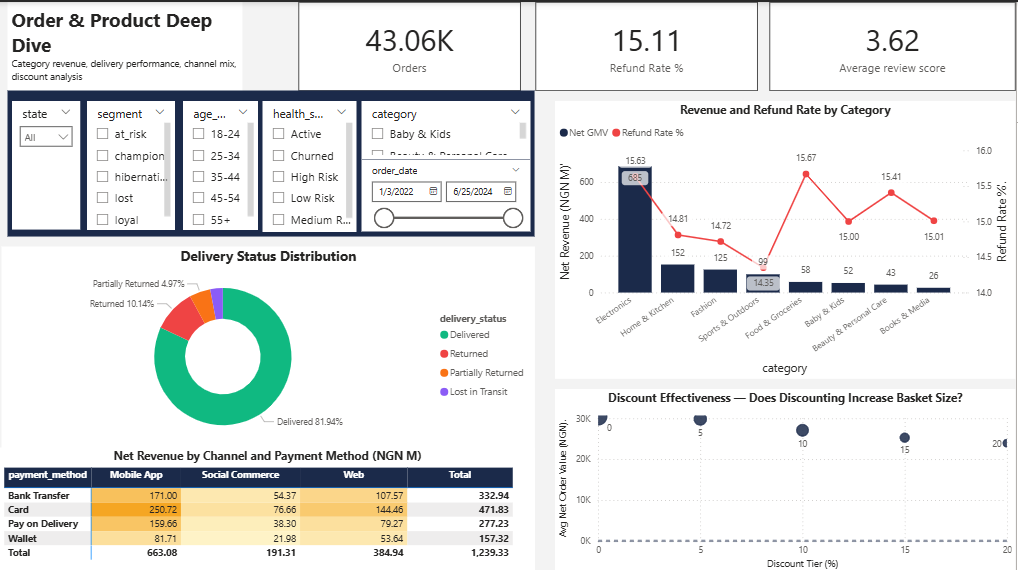

The page's visual inventory and layout, read from the dashboard file:
{"tool":"powerbi","page":{"name":"Order & Product Deep Dive","canvas":[1280,720],"ordinal":3},"visuals":[{"type":"textbox","box":[10,0,296,124],"z":0},{"type":"card","fields":{"Values":["CountNonNull(orders.order_id)"]},"box":[376,0,280,112],"z":1000},{"type":"card","fields":{"Values":["churn_predictions.Refund Rate %"]},"box":[674,0,280,112],"z":2000},{"type":"card","fields":{"Values":["Avg(churn_predictions.avg_review_score)"]},"box":[970,0,310,112],"z":3000},{"type":"lineClusteredColumnComboChart","title":"Revenue and Refund Rate by Category","fields":{"Category":["orders.category"],"Y":["churn_predictions.Net GMV"],"Y2":["churn_predictions.Refund Rate %"]},"box":[700,124,580,350],"z":4000},{"type":"donutChart","title":"Delivery Status Distribution","fields":{"Category":["orders.delivery_status"],"Y":["CountNonNull(orders.order_id)"]},"box":[2,308,672,254],"z":5000},{"type":"pivotTable","title":"Net Revenue by Channel and Payment Method (NGN M)","fields":{"Rows":["orders.payment_method"],"Columns":["orders.channel"],"Values":["churn_predictions.Net GMV"]},"box":[0,562,674,158],"z":6000},{"type":"scatterChart","title":"Discount Effectiveness — Does Discounting Increase Basket Size?","fields":{"Y":["Avg(orders.net_order_value)"],"Size":["CountNonNull(orders.order_id)"],"Category":["orders.discount_pct"],"X":["Avg(orders.discount_pct)"]},"box":[700,488,580,232],"z":7000},{"type":"shape","box":[10,112,664,184],"z":7001},{"type":"slicer","fields":{"Values":["customers.state"]},"box":[16,124,86,162],"z":7002},{"type":"slicer","fields":{"Values":["customers.segment"]},"box":[110,124,110,162],"z":7003},{"type":"slicer","fields":{"Values":["customers.age_group"]},"box":[230,124,94,162],"z":7004},{"type":"slicer","fields":{"Values":["churn_predictions.health_status"]},"box":[330,124,118,164],"z":7005},{"type":"slicer","fields":{"Values":["orders.order_date"]},"box":[456,198,212,90],"z":7006},{"type":"slicer","fields":{"Values":["orders.category"]},"box":[456,124,212,72],"z":7007}]}

Visuals, with their boxes in screenshot pixels (x1, y1, x2, y2), scaled from the page's 1280x720 canvas onto the 1018x570 screenshot:
textbox: {"left": 8, "top": 0, "right": 243, "bottom": 98}
card - CountNonNull(orders.order_id): {"left": 299, "top": 0, "right": 522, "bottom": 89}
card - churn_predictions.Refund Rate %: {"left": 536, "top": 0, "right": 759, "bottom": 89}
card - Avg(churn_predictions.avg_review_score): {"left": 771, "top": 0, "right": 1017, "bottom": 89}
"Revenue and Refund Rate by Category" lineClusteredColumnComboChart: {"left": 557, "top": 98, "right": 1017, "bottom": 375}
"Delivery Status Distribution" donutChart: {"left": 2, "top": 244, "right": 536, "bottom": 445}
"Net Revenue by Channel and Payment Method (NGN M)" pivotTable: {"left": 0, "top": 445, "right": 536, "bottom": 569}
"Discount Effectiveness — Does Discounting Increase Basket Size?" scatterChart: {"left": 557, "top": 386, "right": 1017, "bottom": 569}
shape: {"left": 8, "top": 89, "right": 536, "bottom": 234}
slicer - customers.state: {"left": 13, "top": 98, "right": 81, "bottom": 226}
slicer - customers.segment: {"left": 87, "top": 98, "right": 175, "bottom": 226}
slicer - customers.age_group: {"left": 183, "top": 98, "right": 258, "bottom": 226}
slicer - churn_predictions.health_status: {"left": 262, "top": 98, "right": 356, "bottom": 228}
slicer - orders.order_date: {"left": 363, "top": 157, "right": 531, "bottom": 228}
slicer - orders.category: {"left": 363, "top": 98, "right": 531, "bottom": 155}
